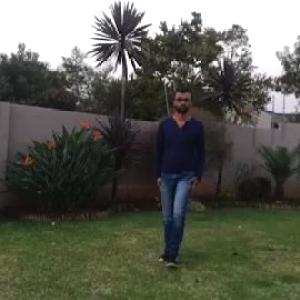follow: (152, 95, 198, 249)
